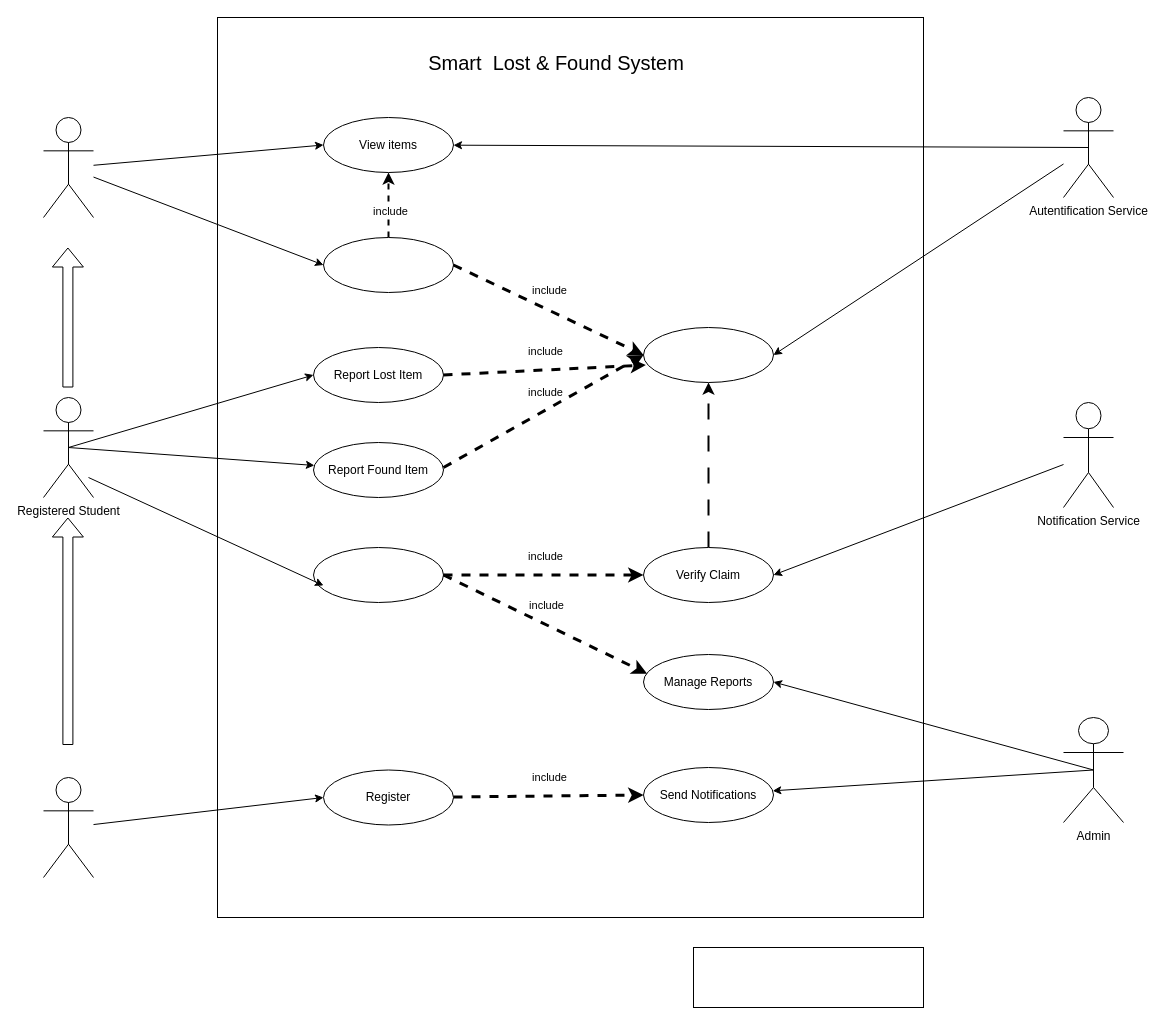
Some shapes in this 1165 by 1025 pixel diagram are drawn without their labels. The shapes that lost their labels are listed below. From the top down, each one's centre as x and y in pixels, then its label:
At (x=68, y=167): "Web Student".
At (x=388, y=264): "Search items".
At (x=708, y=354): "Autentificate User".
At (x=378, y=574): "Claim Item".
At (x=68, y=827): "New Student".
At (x=808, y=977): "By Elina Umerova I24D".
